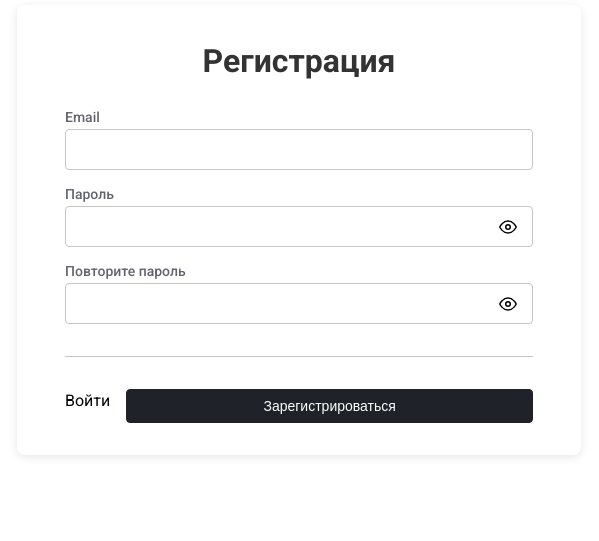
Test: Registration › validates email field
In the field labelled "Email": (299, 150) [65,129,533,170], type "invalid-email"
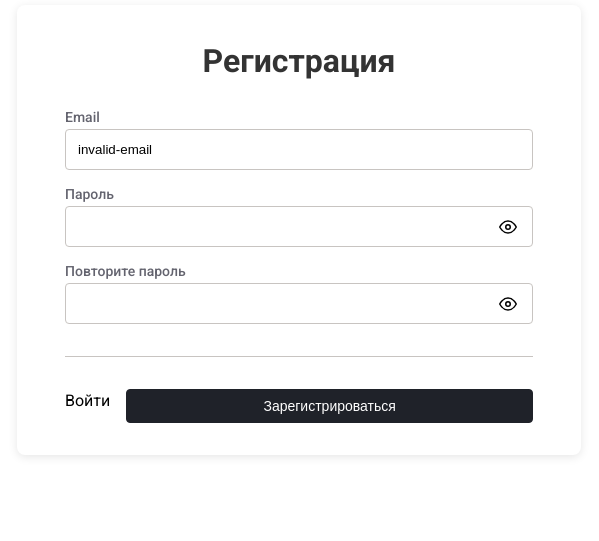
Submit the form with test id "register-form", box [65,109,533,423]
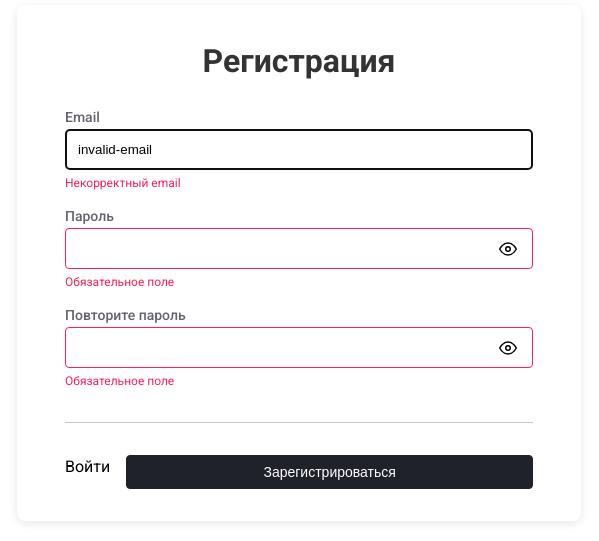
Result: the text "Некорректный email" is shown at [65,176,181,190]
